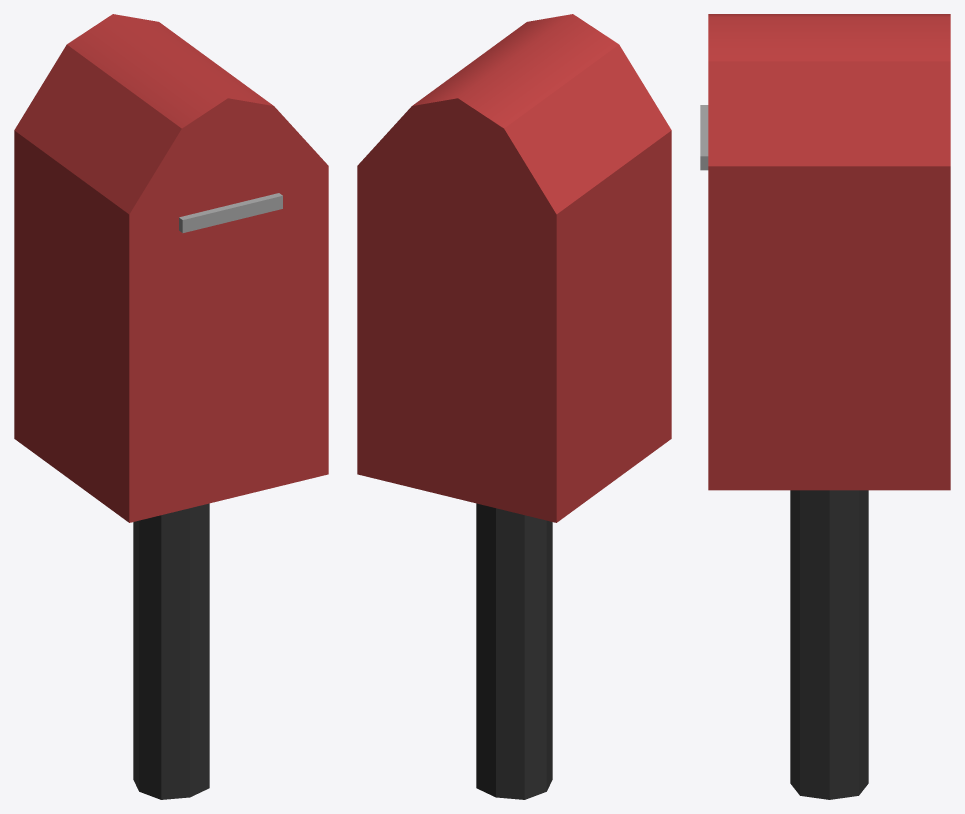
Rendered from Prop_Post_003.fbx.
The picture shows the model from 3 angles, left to right: view 1: azimuth 30°, elevation 25°; view 2: azimuth 150°, elevation 25°; view 3: azimuth 270°, elevation 25°; orthographic projection. The views are drawn at different scales.
Parts seen in each view (by area): view 1: Prop_Post_003; view 2: Prop_Post_003; view 3: Prop_Post_003.
Boxes of the visible parts, bbox=[...] form: Prop_Post_003: bbox=[14, 14, 328, 799]; Prop_Post_003: bbox=[357, 14, 671, 799]; Prop_Post_003: bbox=[700, 14, 950, 799].
Bounding box in the file's own units: 0.5229 × 1.82 × 0.5402.
